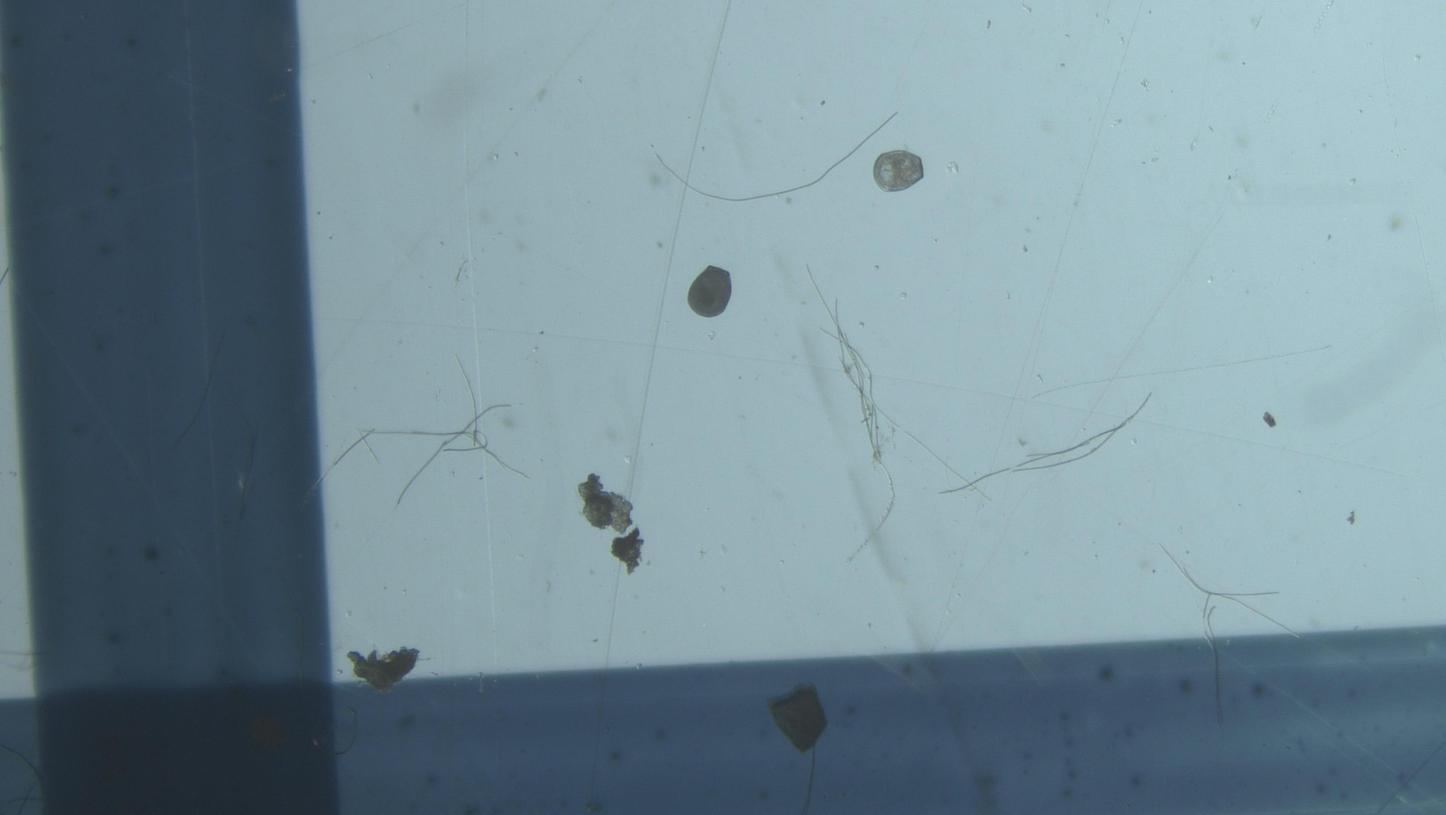live: (688, 266, 732, 317), (873, 150, 924, 192)
